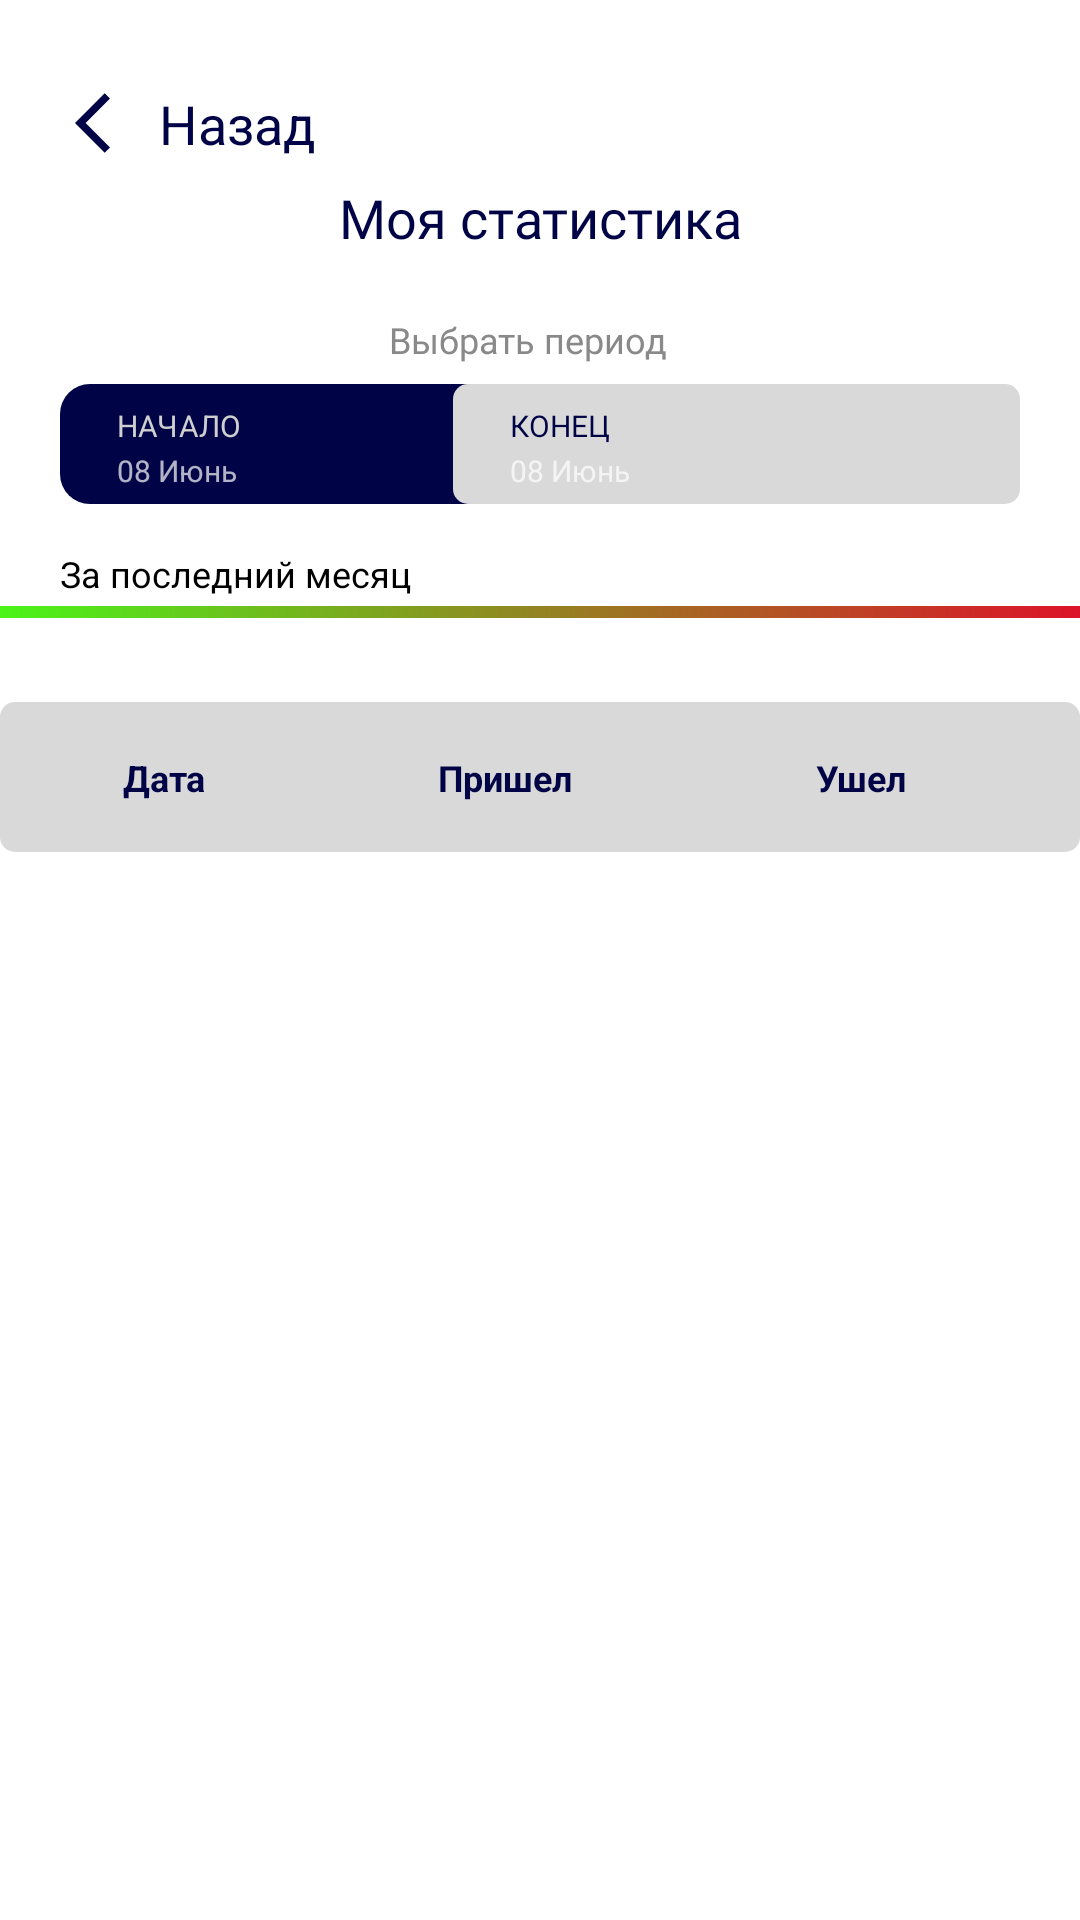

Icons on this 1080w x 1920h Android screen, each with its box as bbox=(x1, y1, x2, y2):
arrow: bbox=(75, 93, 110, 153)
